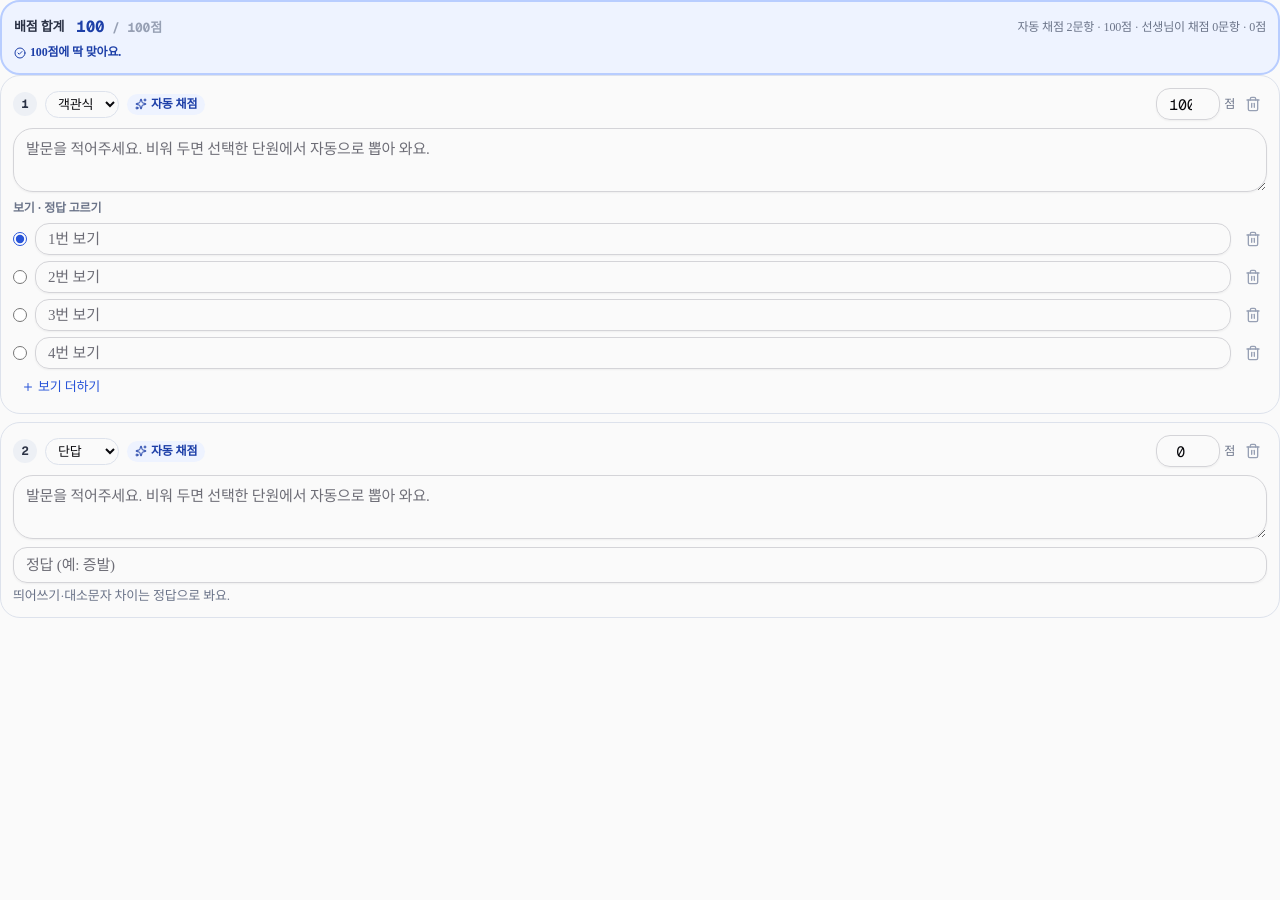
Test: QuestionListEditor › 배점이 100점을 넘으면 넘은 만큼 알린다
Replace the text in the number field with test id "question-points-1" with "20" at (1188, 451), box left=1156, top=435, right=1220, bottom=467
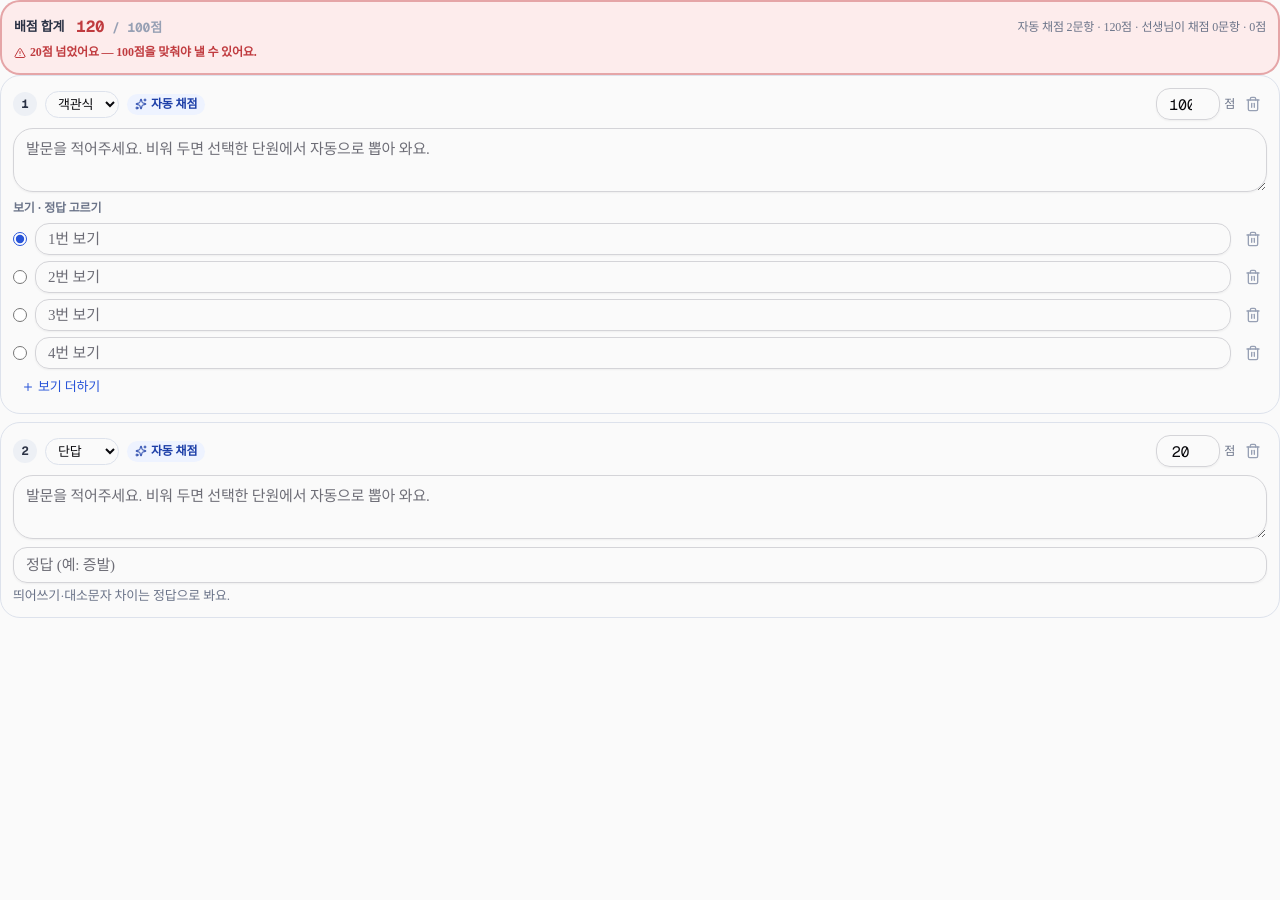
Check: the element with test id "points-tally" shows "20점 넘었어요", box left=30, top=45, right=256, bottom=59
